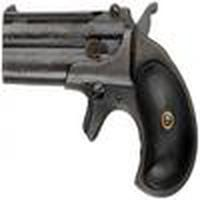gun: (2, 10, 197, 197)
